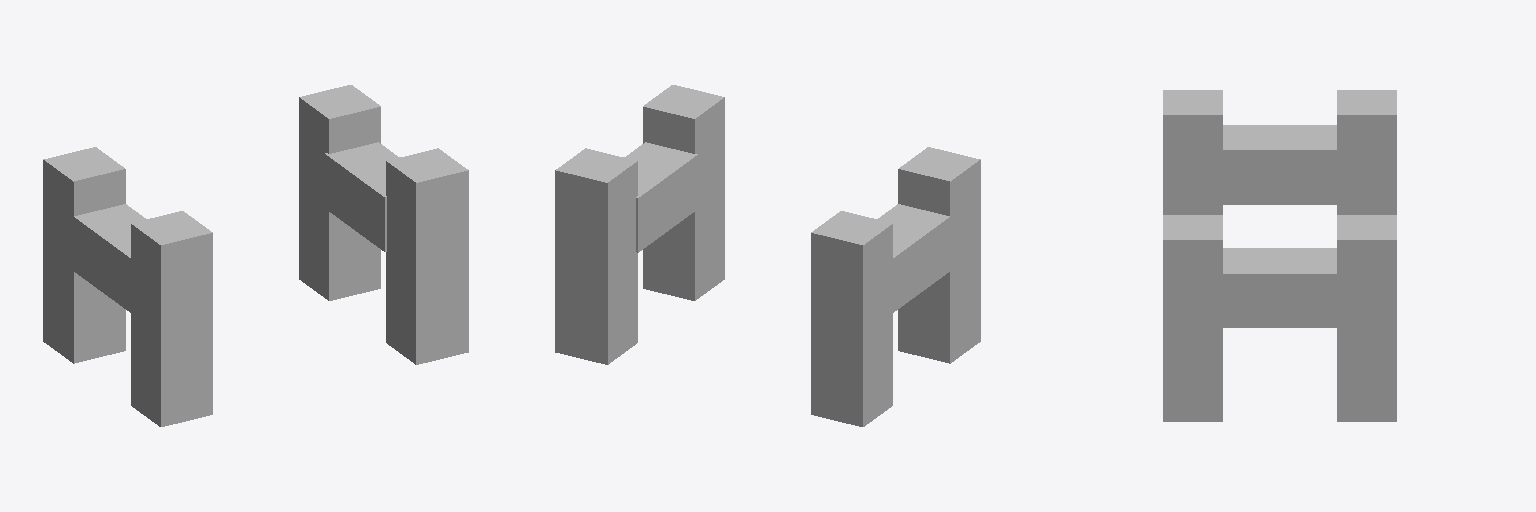
The model's file is HeaterBase.obj.
3 views of the same model, side by side, from view 1: azimuth 30°, elevation 25°; view 2: azimuth 150°, elevation 25°; view 3: azimuth 270°, elevation 25° (orthographic).
Visible parts, largest first — view 1: BaseSupport.002, BaseSupport.004, BaseSupport, BaseSupport.003, BaseSupport.005, BaseSupport.001; view 2: BaseSupport.003, BaseSupport, BaseSupport.004, BaseSupport.002, BaseSupport.005, BaseSupport.001; view 3: BaseSupport.002, BaseSupport.003, BaseSupport.001, BaseSupport.005, BaseSupport.004, BaseSupport.
Part boxes in pixels (x1,y1,x2,y2): BaseSupport.002: (386, 148, 468, 364); BaseSupport.004: (131, 211, 212, 426); BaseSupport: (43, 147, 125, 363); BaseSupport.003: (299, 85, 380, 300); BaseSupport.005: (324, 142, 399, 251); BaseSupport.001: (74, 204, 145, 313); BaseSupport.003: (555, 148, 637, 364); BaseSupport: (811, 211, 892, 426); BaseSupport.004: (898, 147, 980, 363); BaseSupport.002: (643, 85, 724, 300); BaseSupport.005: (624, 142, 698, 252); BaseSupport.001: (878, 204, 951, 312); BaseSupport.002: (1163, 215, 1222, 421); BaseSupport.003: (1337, 215, 1396, 421); BaseSupport.001: (1221, 125, 1340, 204); BaseSupport.005: (1223, 248, 1336, 327); BaseSupport.004: (1163, 90, 1222, 214); BaseSupport: (1337, 90, 1396, 214).
Bounding box in the file's own units: 3.54 × 2 × 2.34.